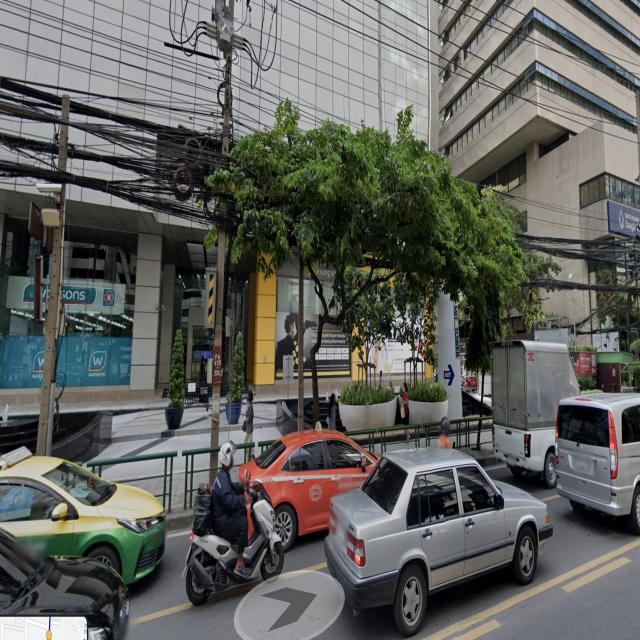tree: (219, 110, 406, 426), (345, 266, 398, 420), (465, 241, 496, 453), (158, 321, 188, 434), (228, 330, 254, 444)
